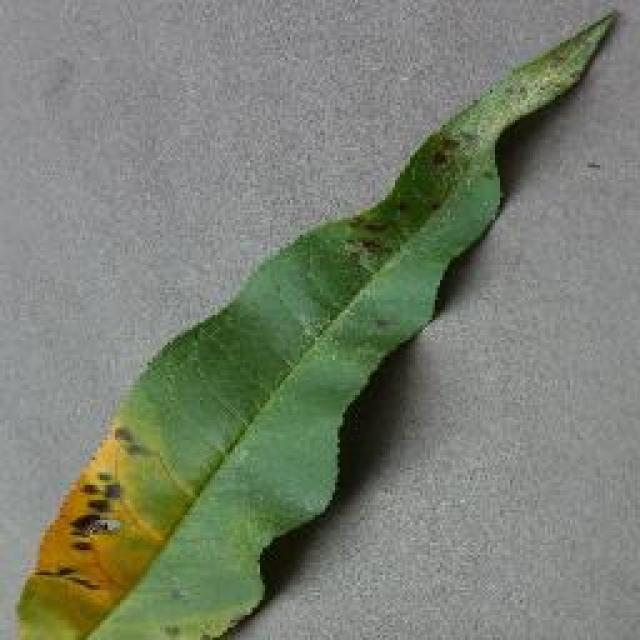Peach_Bacterial_Spot: (92, 385, 278, 623)
